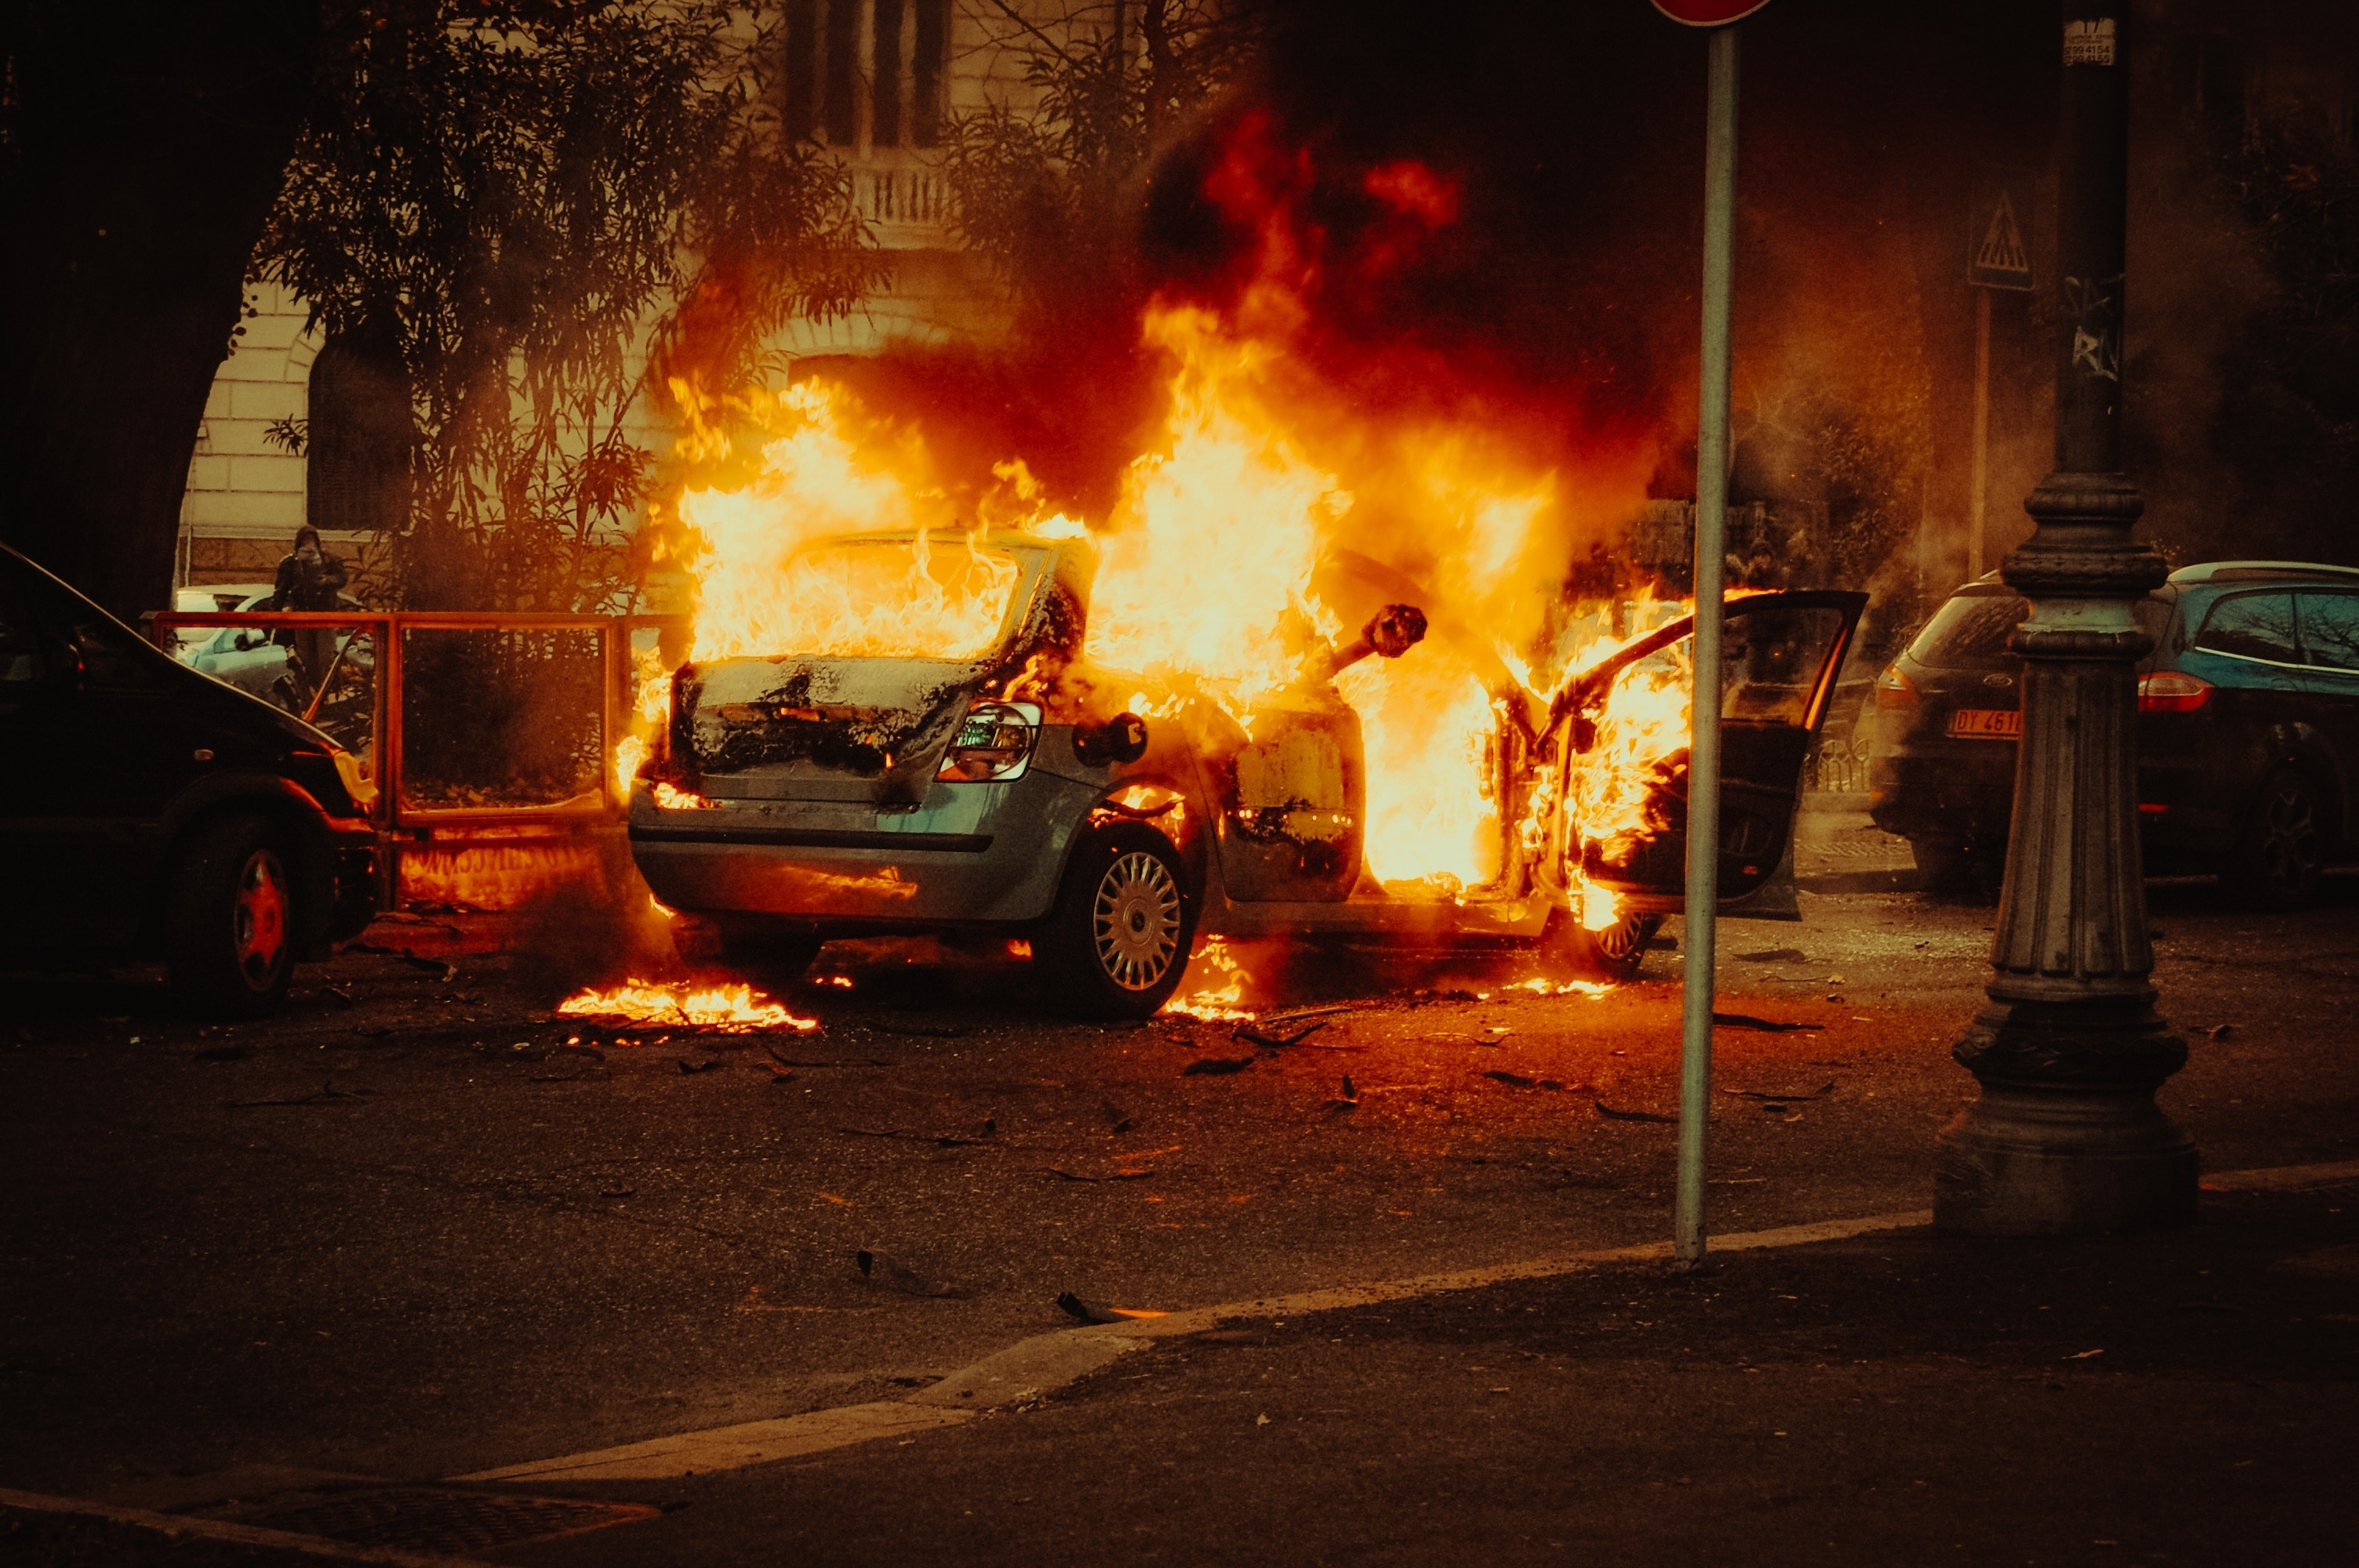fire: (558, 210, 1775, 1052)
